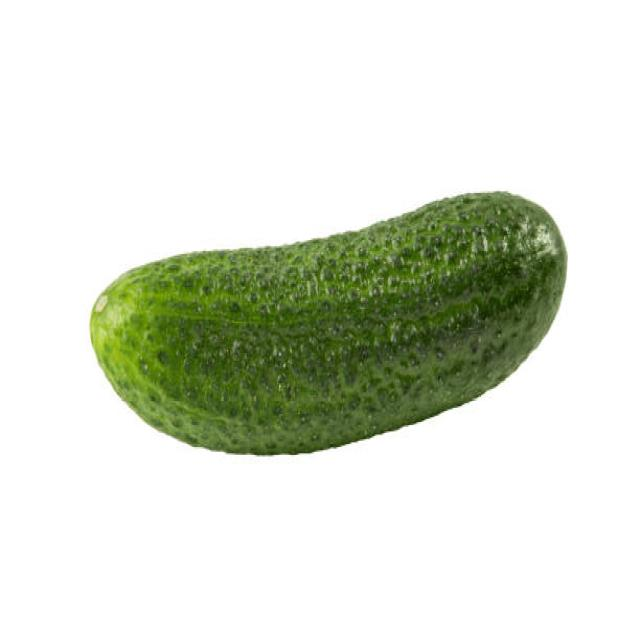cucumber: (90, 191, 565, 455)
